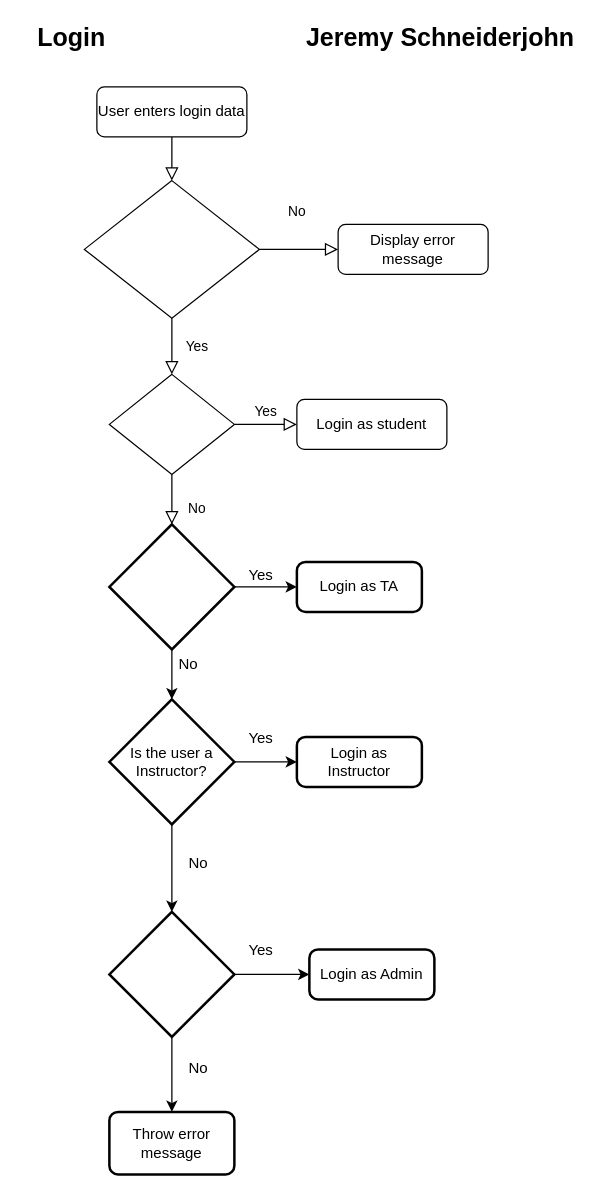
The diagram is 605 pixels wide and 1196 high, and some of its shapes have lost their labels. The box of each missing label's shape, as (x1, y1, x2, y2) in pixels:
Are credentials found in database?: (83, 179, 259, 318)
Is the user a student?: (108, 373, 234, 474)
Is the user a TA?: (108, 522, 235, 650)
Is the user an Admin?: (108, 910, 235, 1038)
